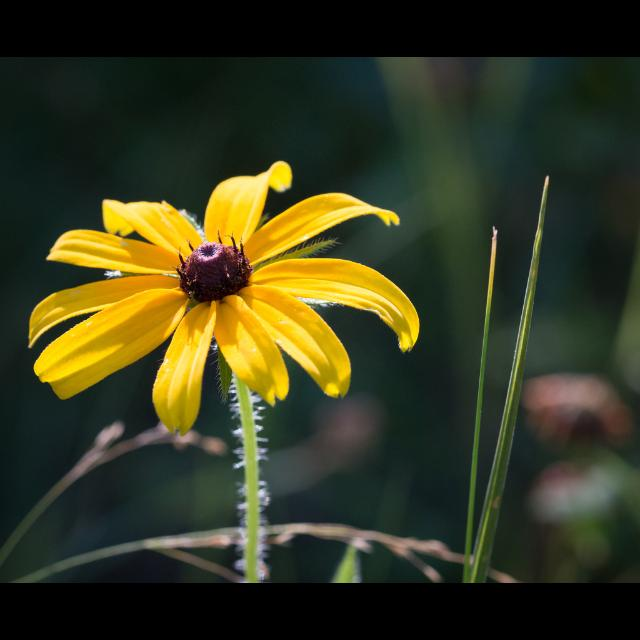Flower: (18, 159, 420, 431)
